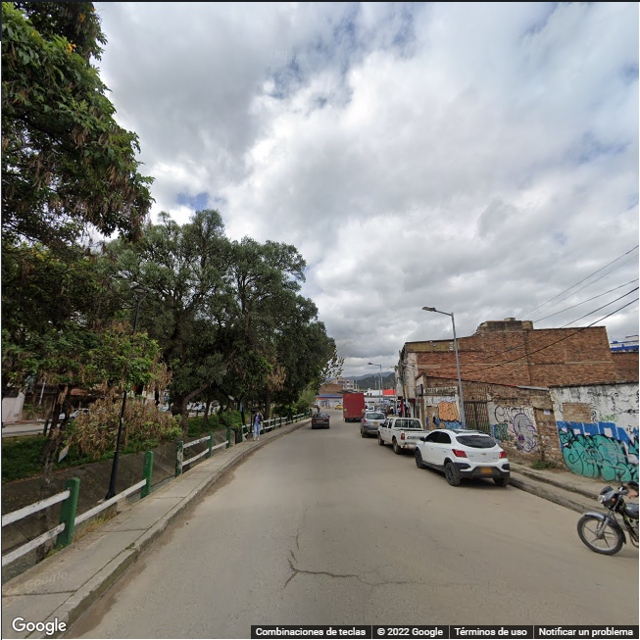D00: (285, 542, 295, 585)
D10: (298, 567, 381, 584)
